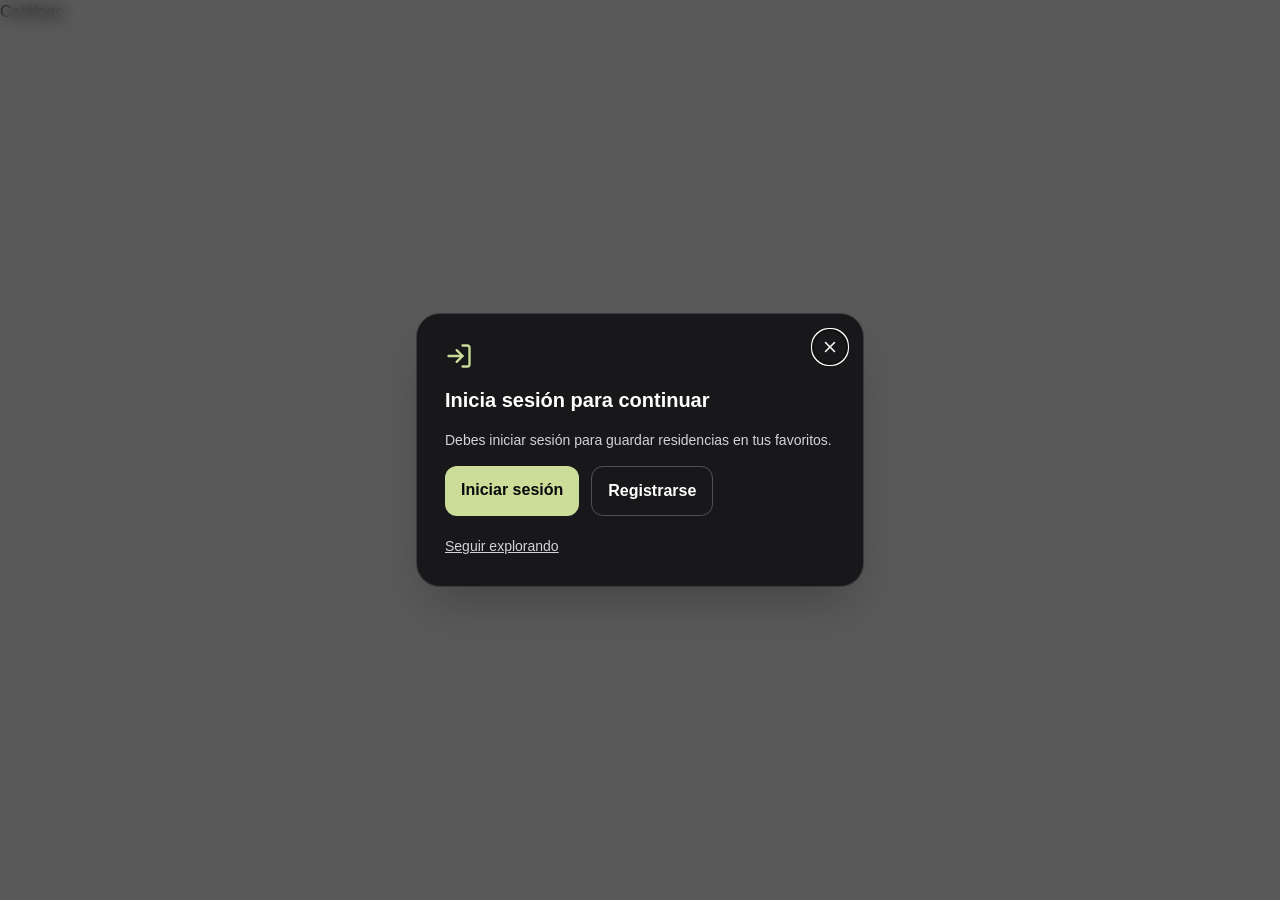
Test: protected visitor actions › offers both authentication routes and returns to the visitor view when closed
Check: the dialog shows "guardar residencias", box x1=445 y1=432 x2=832 y2=448
Step 1. Click the button "Seguir explorando" → (502, 546), box x1=445 y1=536 x2=559 y2=556
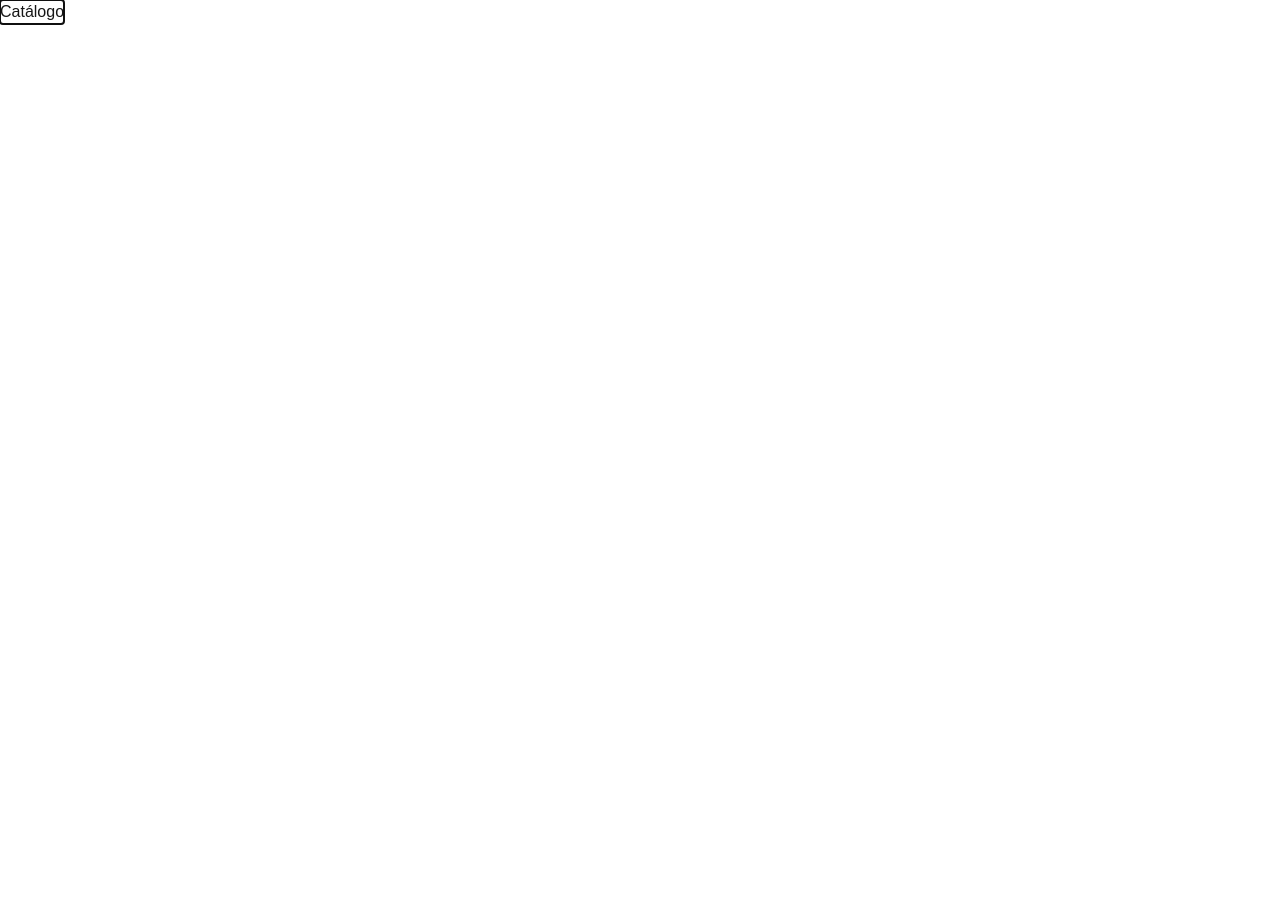
Check: the dialog is gone
